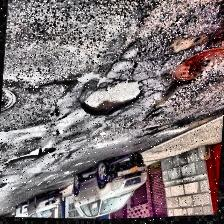pothole: (80, 74, 144, 127)
